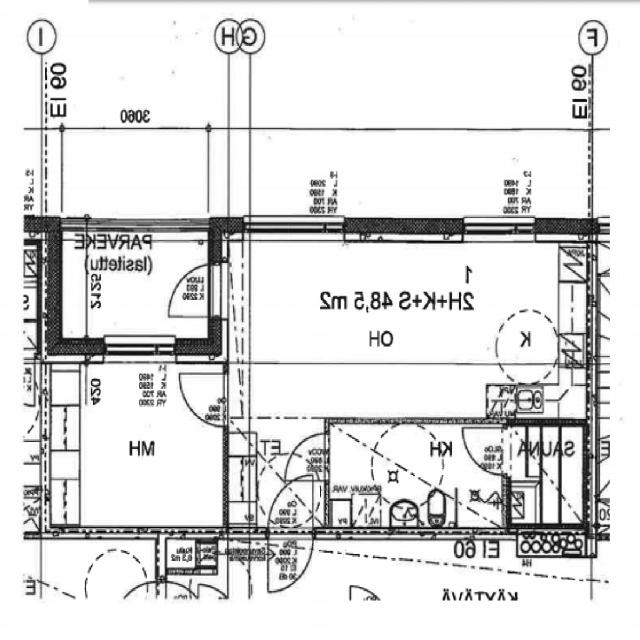door: (166, 264, 230, 318), (268, 475, 313, 541), (268, 529, 313, 594), (179, 374, 230, 426), (464, 428, 508, 475), (286, 435, 330, 481)
